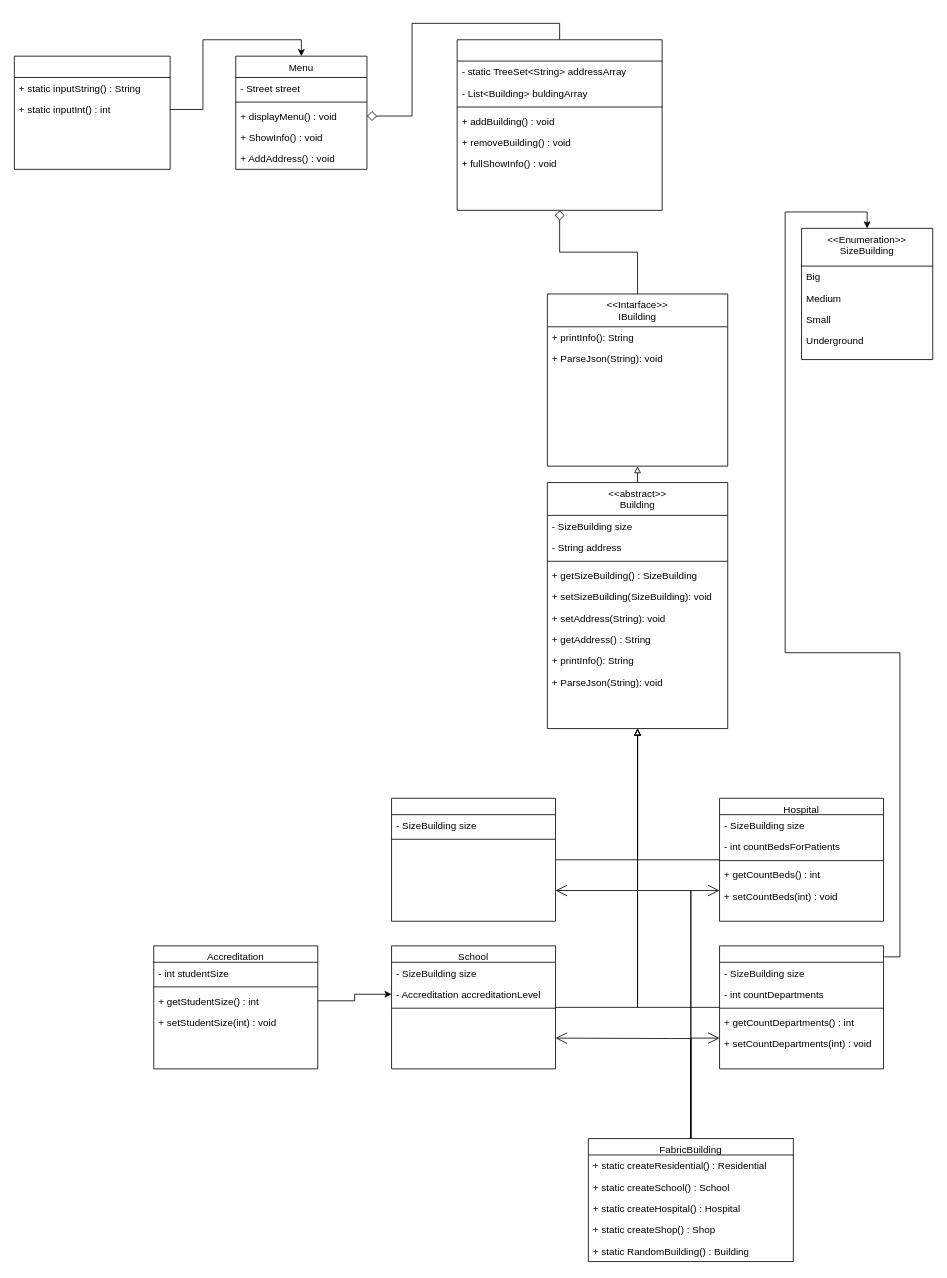
This 947x1278 diagram has some shape labels left out. Here are the shapes that lost their labels. From the top down, the box of each, then its label:
(14, 55, 170, 169): UntilMenu
(456, 39, 662, 210): Street
(391, 797, 556, 921): Residential
(719, 945, 884, 1069): Shop
